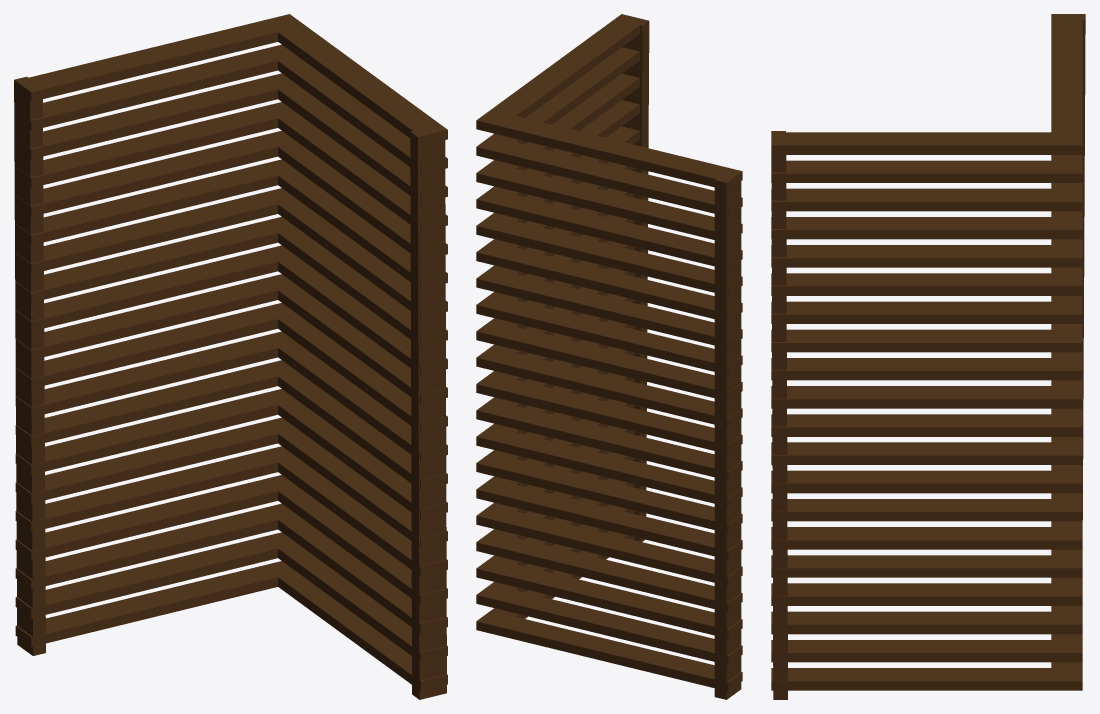
File: L wall.glb
3 renders of one model, left to right at view 1: azimuth 30°, elevation 25°; view 2: azimuth 150°, elevation 25°; view 3: azimuth 270°, elevation 25°, orthographic. The views are drawn at different scales.
Parts seen in each view (by area): view 1: Wall_with_planks_side_r.002, Wall_with_planks_side_r.001, Wall_With_Planks_plank_19.001, Wall_With_Planks_plank_17.001, Wall_With_Planks_plank_14.001, Wall_With_Planks_plank_18.001, Wall_With_Planks_plank_16.001, Wall_With_Planks_plank_15.001, Wall_With_Planks_plank_13.001, Wall_With_Planks_plank_10.001, Wall_With_Planks_plank_09.001, Wall_With_Planks_plank_08.001 (+30 smaller); view 2: Wall_with_planks_side_r.001, Wall_With_Planks_plank_19.001, Wall_With_Planks_plank_00.001, Wall_With_Planks_plank_01.001, Wall_With_Planks_plank_05.001, Wall_With_Planks_plank_03.001, Wall_With_Planks_plank_02.001, Wall_With_Planks_plank_04.001, Wall_With_Planks_plank_06.001, Wall_With_Planks_plank_10.001, Wall_With_Planks_plank_09.001, Wall_With_Planks_plank_11.001 (+30 smaller); view 3: Wall_With_Planks_plank_17.002, Wall_With_Planks_plank_07.002, Wall_With_Planks_plank_12.002, Wall_With_Planks_plank_02.002, Wall_With_Planks_plank_15.002, Wall_With_Planks_plank_14.002, Wall_With_Planks_plank_10.002, Wall_With_Planks_plank_09.002, Wall_With_Planks_plank_06.002, Wall_With_Planks_plank_16.002, Wall_With_Planks_plank_13.002, Wall_With_Planks_plank_18.002 (+11 smaller).
Part boxes in pixels (bbox=[...]): Wall_with_planks_side_r.002: bbox=[410, 125, 446, 699]; Wall_with_planks_side_r.001: bbox=[14, 76, 45, 655]; Wall_With_Planks_plank_19.001: bbox=[15, 14, 302, 101]; Wall_With_Planks_plank_17.001: bbox=[15, 78, 277, 159]; Wall_With_Planks_plank_14.001: bbox=[15, 164, 277, 245]; Wall_With_Planks_plank_18.001: bbox=[15, 49, 277, 130]; Wall_With_Planks_plank_16.001: bbox=[15, 107, 277, 187]; Wall_With_Planks_plank_15.001: bbox=[15, 135, 277, 216]; Wall_With_Planks_plank_13.001: bbox=[15, 193, 277, 273]; Wall_With_Planks_plank_10.001: bbox=[15, 279, 277, 359]; Wall_With_Planks_plank_09.001: bbox=[15, 307, 277, 388]; Wall_With_Planks_plank_08.001: bbox=[15, 336, 277, 417]; Wall_with_planks_side_r.001: bbox=[714, 169, 741, 699]; Wall_With_Planks_plank_19.001: bbox=[476, 110, 742, 190]; Wall_With_Planks_plank_00.001: bbox=[476, 617, 742, 691]; Wall_With_Planks_plank_01.001: bbox=[476, 590, 742, 664]; Wall_With_Planks_plank_05.001: bbox=[476, 485, 742, 559]; Wall_With_Planks_plank_03.001: bbox=[476, 538, 742, 612]; Wall_With_Planks_plank_02.001: bbox=[476, 564, 742, 638]; Wall_With_Planks_plank_04.001: bbox=[476, 511, 742, 585]; Wall_With_Planks_plank_06.001: bbox=[476, 458, 742, 533]; Wall_With_Planks_plank_10.001: bbox=[476, 353, 742, 427]; Wall_With_Planks_plank_09.001: bbox=[476, 379, 742, 453]; Wall_With_Planks_plank_11.001: bbox=[476, 327, 742, 401]; Wall_With_Planks_plank_17.002: bbox=[771, 188, 1082, 211]; Wall_With_Planks_plank_07.002: bbox=[771, 470, 1082, 493]; Wall_With_Planks_plank_12.002: bbox=[771, 329, 1082, 352]; Wall_With_Planks_plank_02.002: bbox=[771, 611, 1082, 634]; Wall_With_Planks_plank_15.002: bbox=[771, 245, 1082, 267]; Wall_With_Planks_plank_14.002: bbox=[771, 273, 1082, 295]; Wall_With_Planks_plank_10.002: bbox=[771, 386, 1082, 408]; Wall_With_Planks_plank_09.002: bbox=[771, 414, 1082, 436]; Wall_With_Planks_plank_06.002: bbox=[771, 499, 1082, 521]; Wall_With_Planks_plank_16.002: bbox=[771, 217, 1082, 239]; Wall_With_Planks_plank_13.002: bbox=[771, 301, 1082, 323]; Wall_With_Planks_plank_18.002: bbox=[771, 160, 1082, 182].
Size of the model in its own units: 1.5 by 2.95 by 1.51.
